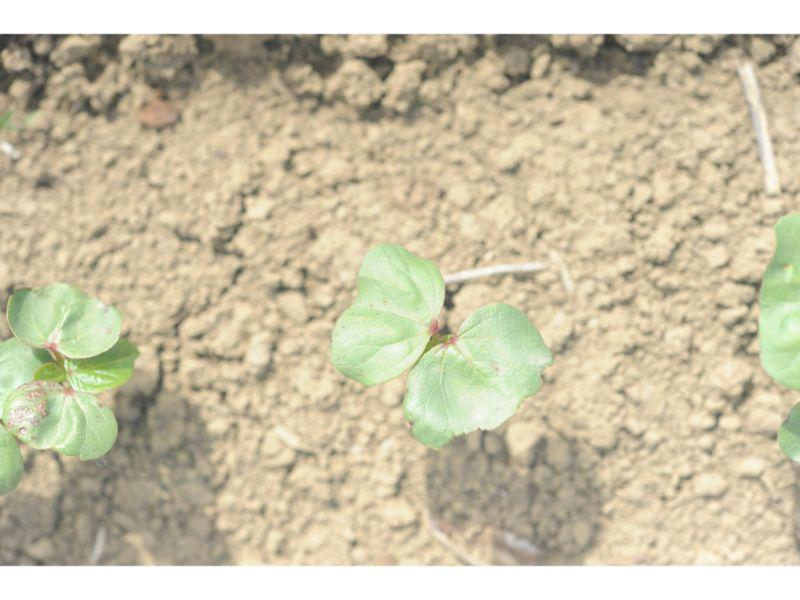cotton: (330, 243, 554, 452), (0, 279, 139, 496)
